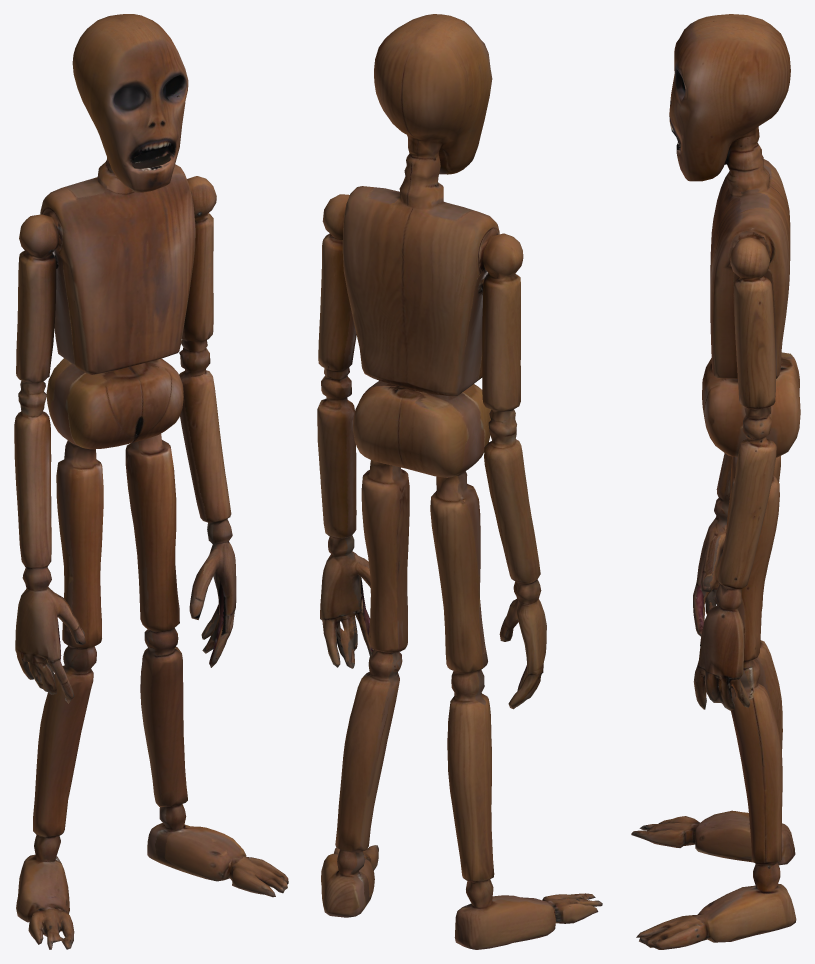
Rendered from maniqui.fbx.
3 views of the same model, side by side, from view 1: azimuth 30°, elevation 25°; view 2: azimuth 150°, elevation 25°; view 3: azimuth 270°, elevation 25° (orthographic). The views are drawn at different scales.
Visible parts, largest first — view 1: meshes[0]; view 2: meshes[0]; view 3: meshes[0].
Boxes of the visible parts, left/top/right/bottom form: meshes[0]: left=14, top=14, right=288, bottom=949; meshes[0]: left=317, top=14, right=602, bottom=949; meshes[0]: left=631, top=14, right=800, bottom=949.
Size of the model in its own units: 0.6065 by 2 by 0.3522.
1 material, 1 textured.
